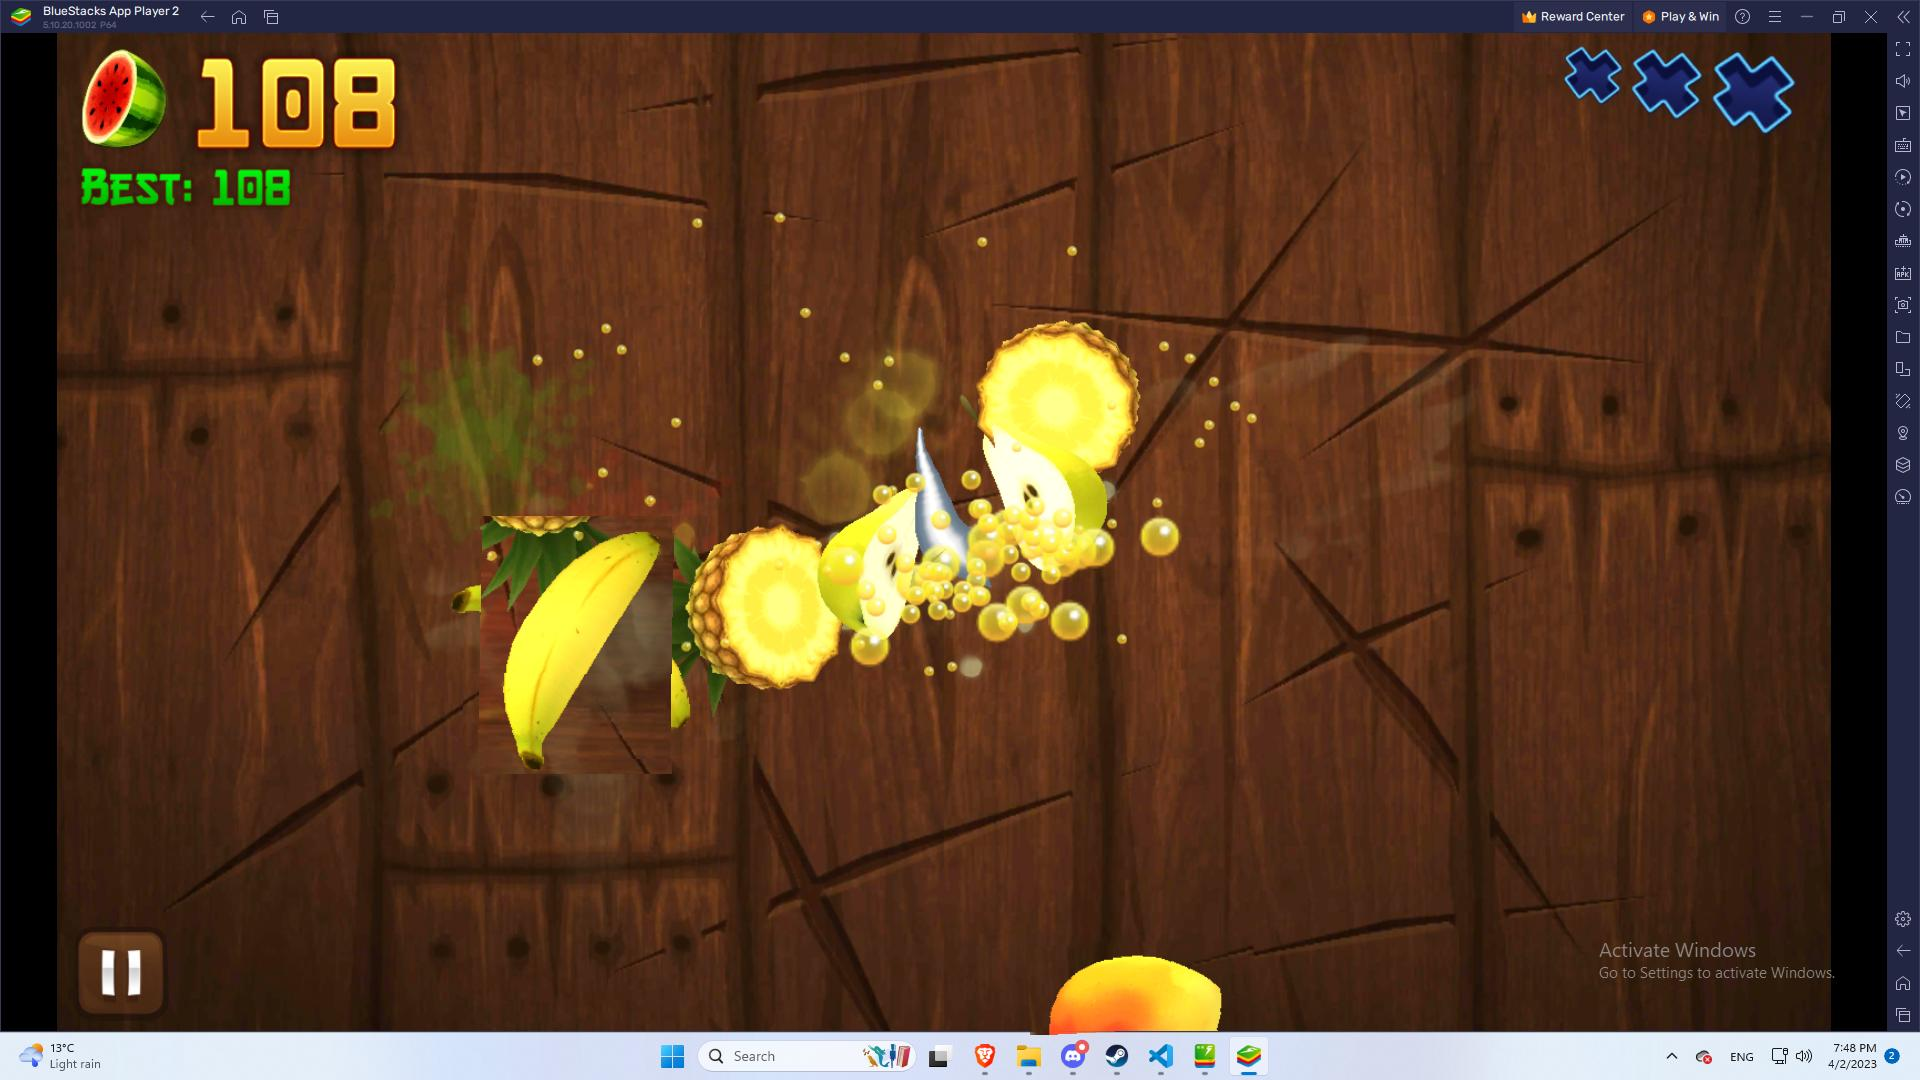fruit: (463, 531, 690, 758), (1027, 939, 1258, 1033)
